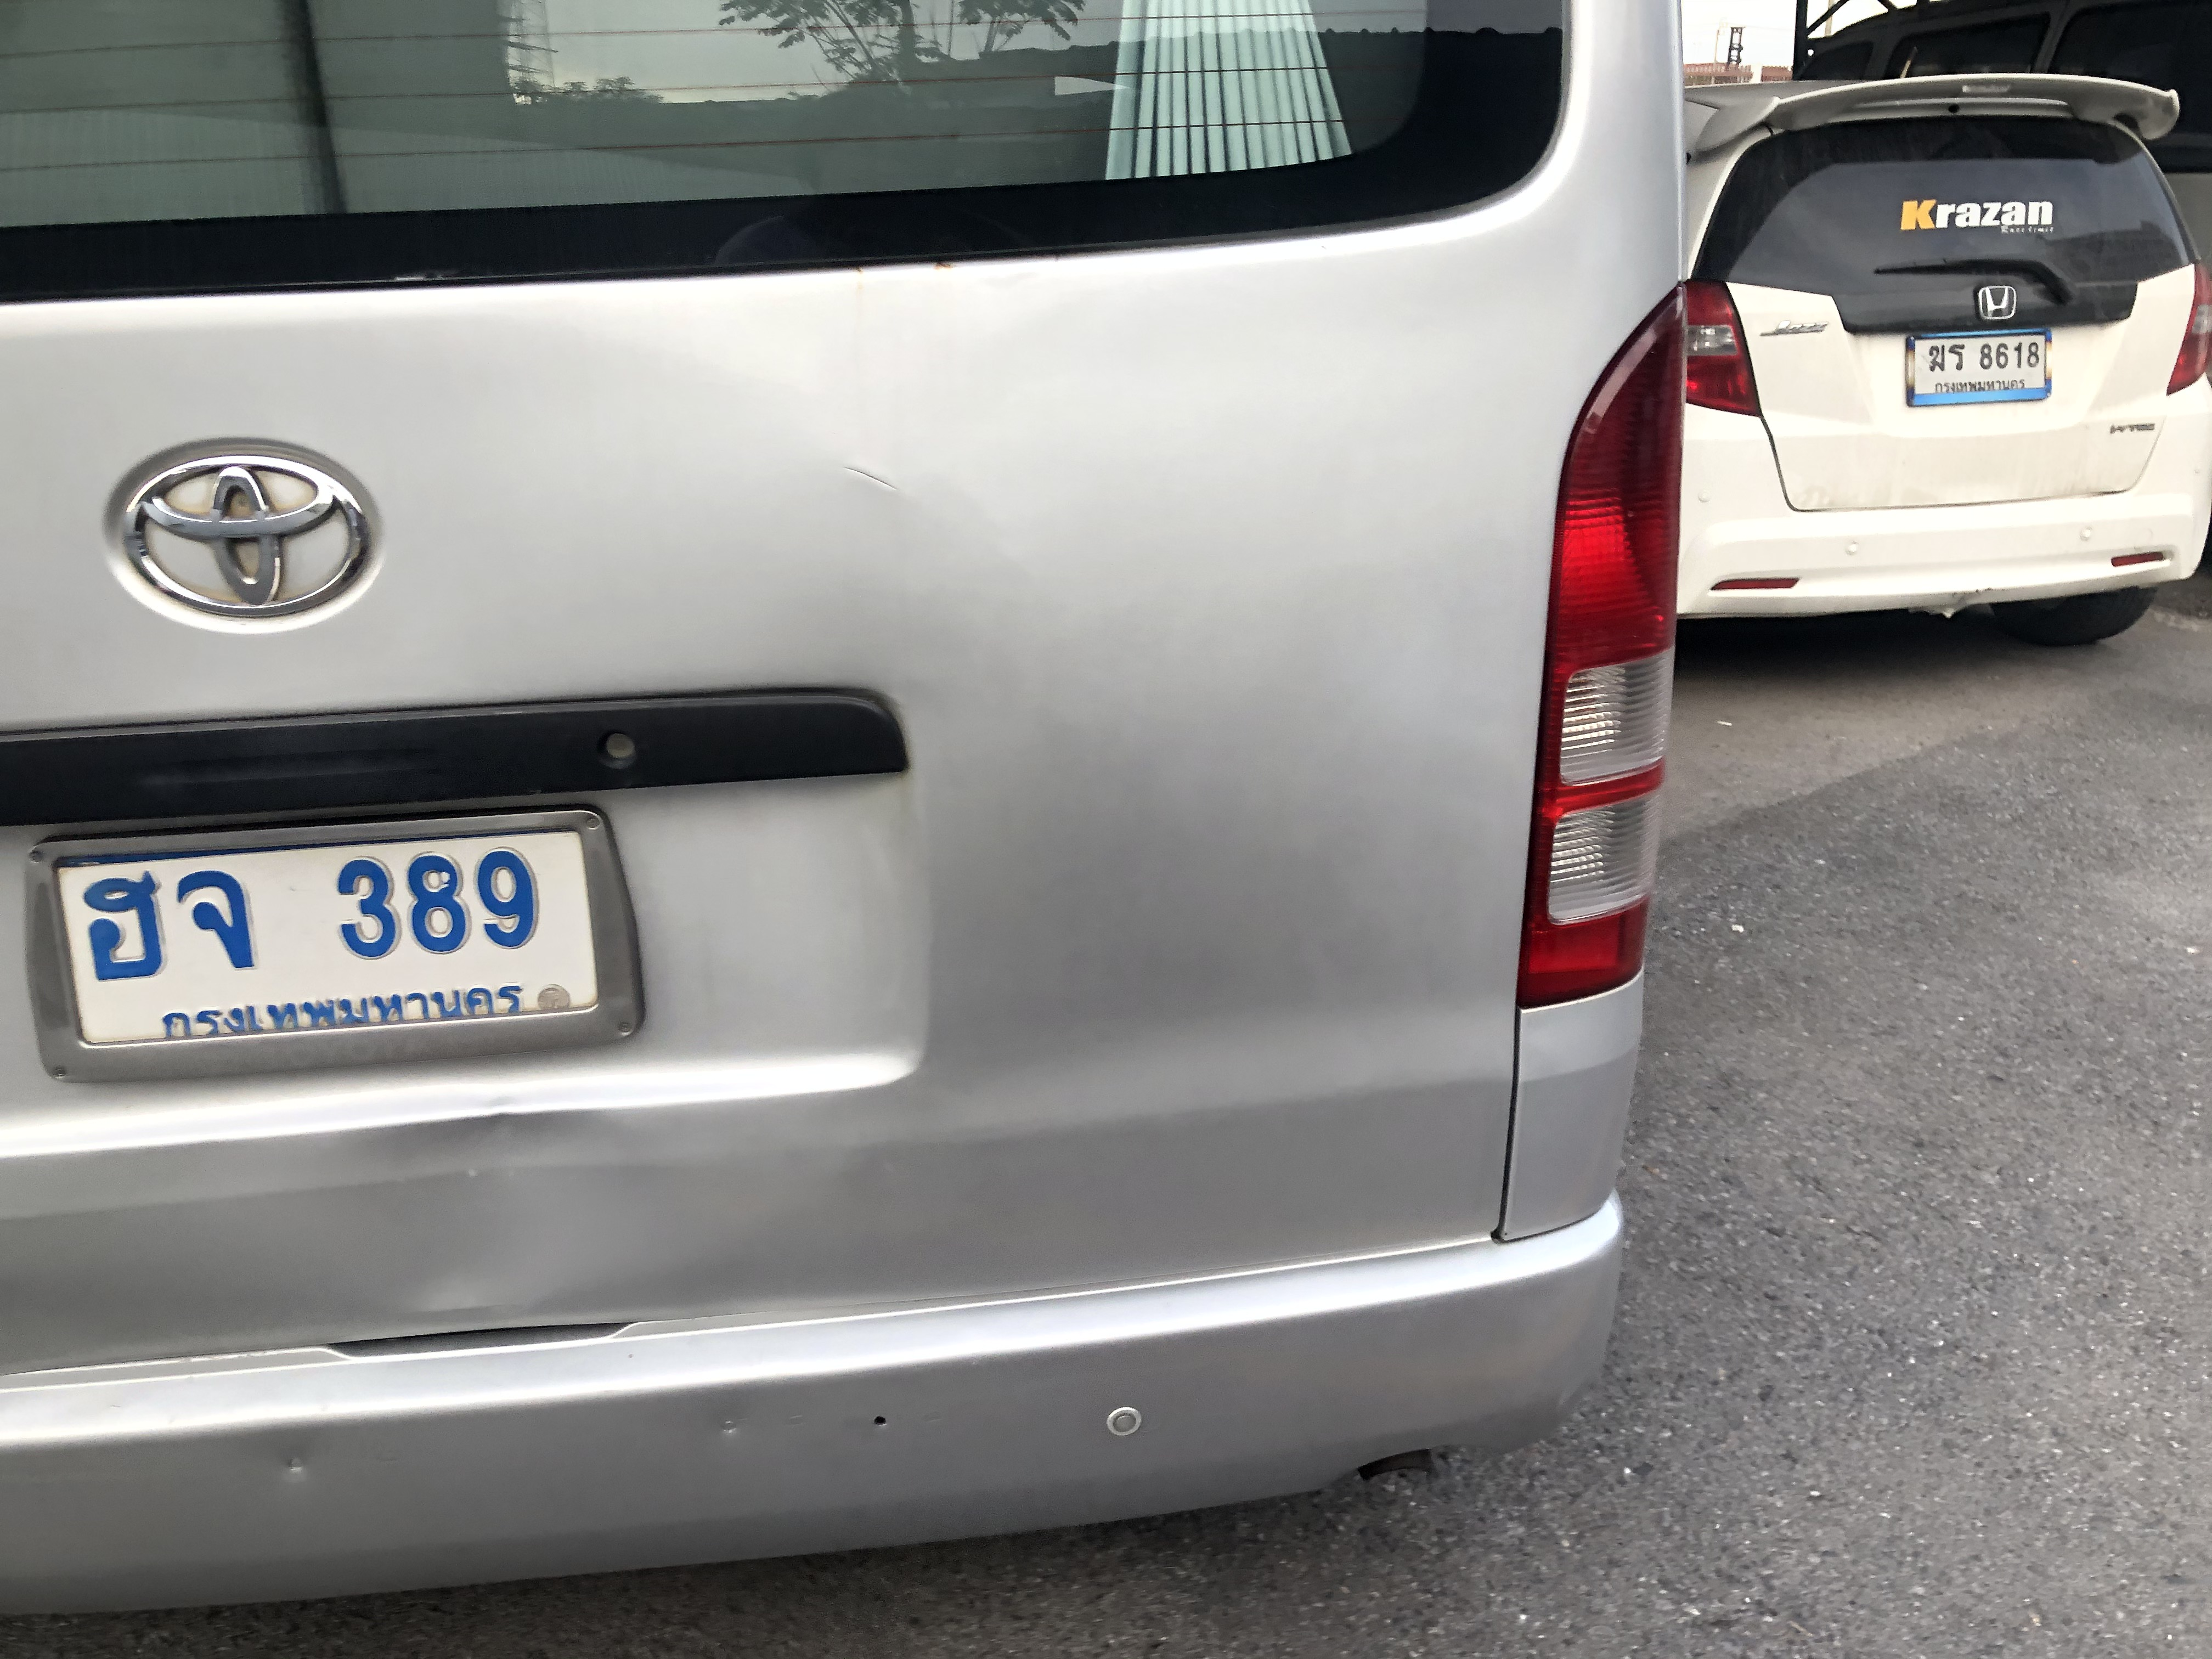in: (54, 830, 610, 1032), (1914, 335, 2045, 394)
out: (23, 805, 646, 1082), (1904, 328, 2055, 406)
